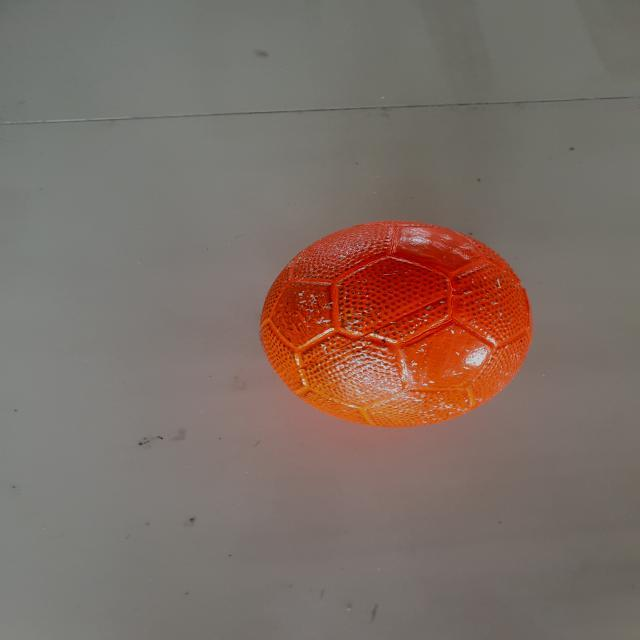bola: (248, 206, 551, 438)
